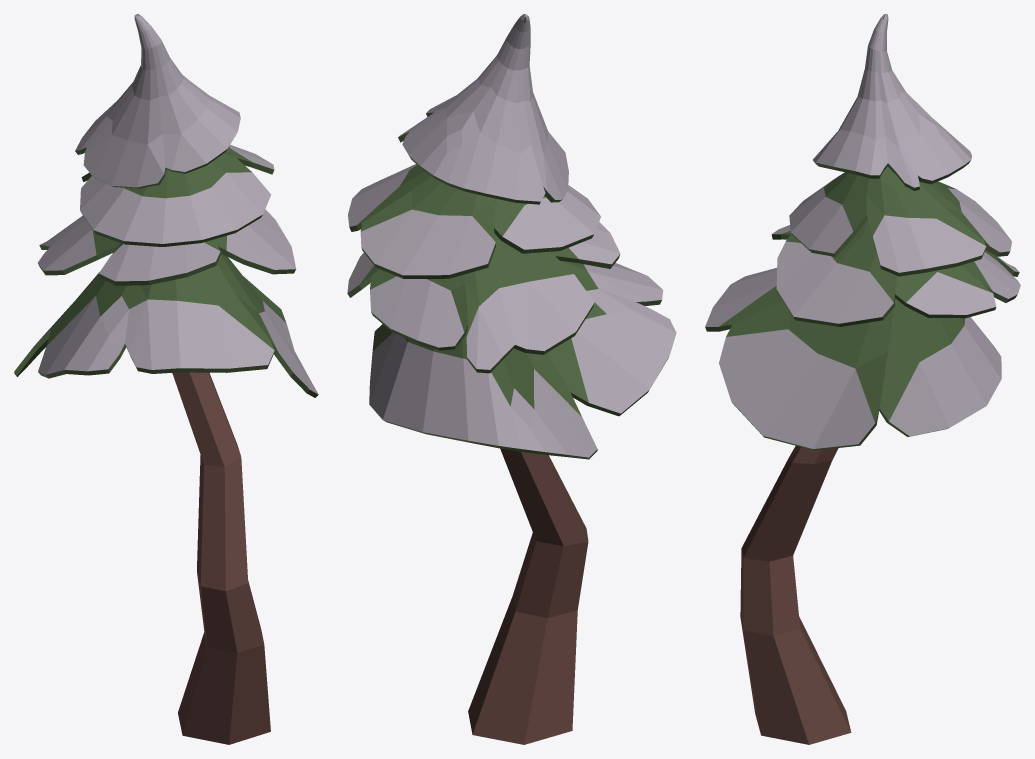
3 views of the same model, side by side, from view 1: azimuth 30°, elevation 25°; view 2: azimuth 150°, elevation 25°; view 3: azimuth 270°, elevation 25° (orthographic). The views are drawn at different scales.
Parts seen in each view (by area): view 1: Pine_Tree_Snow; view 2: Pine_Tree_Snow; view 3: Pine_Tree_Snow.
Part boxes in pixels (x1,y1,x2,y2): Pine_Tree_Snow: [14, 14, 318, 744]; Pine_Tree_Snow: [347, 14, 676, 744]; Pine_Tree_Snow: [705, 14, 1020, 744].
Bounding box in the file's own units: 2.87 × 7.66 × 3.19.
